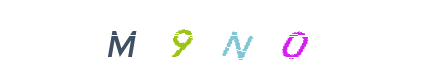0: (212, 0, 292, 80)
9: (142, 0, 222, 80)
M: (82, 0, 162, 80)
N: (180, 0, 260, 80)
